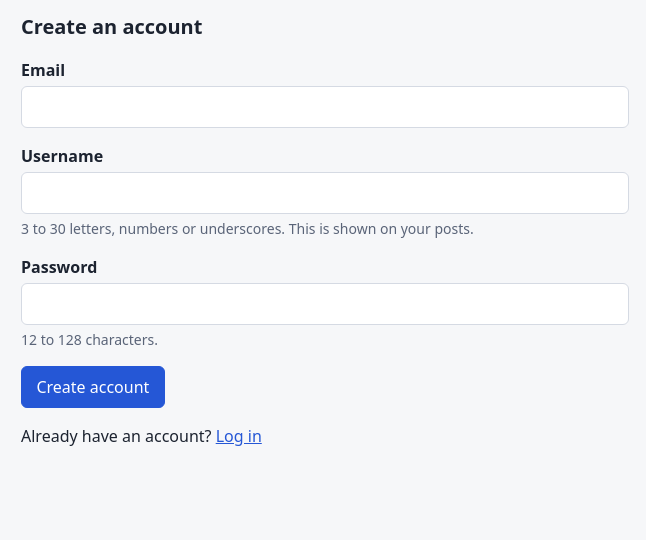
Test: RegisterForm › AT-R4: shows a message at every empty field and sends no request
What coordinates should you click on to do the following:
click the button "Create account"
I would click on:
 (93, 387)
Its box is [21,366,165,408].
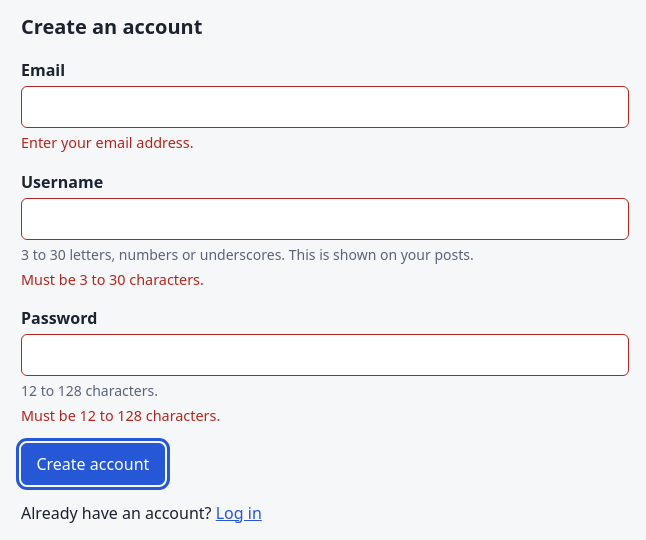
Check: the text "Enter your email address." is shown, box [21,133,194,152]
Check: the text "Must be 3 to 30 characters." is shown, box [21,270,204,289]
Check: the text "Must be 12 to 128 characters." is shown, box [21,406,220,425]
